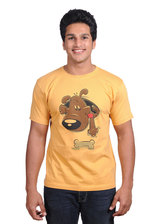clothoes: (27, 64, 135, 191)
